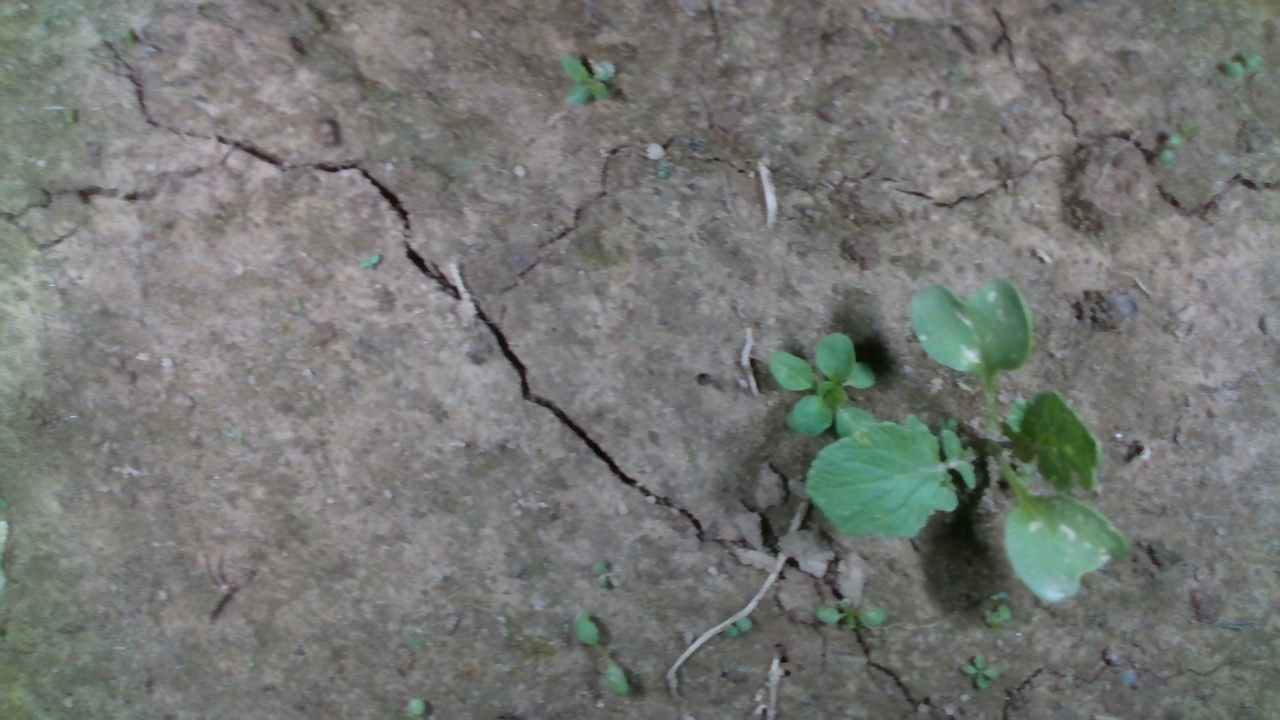weed: (574, 610, 630, 697), (559, 53, 618, 107), (815, 598, 887, 630), (959, 650, 1001, 690), (1221, 52, 1261, 80), (1159, 130, 1181, 165), (721, 615, 753, 639)
